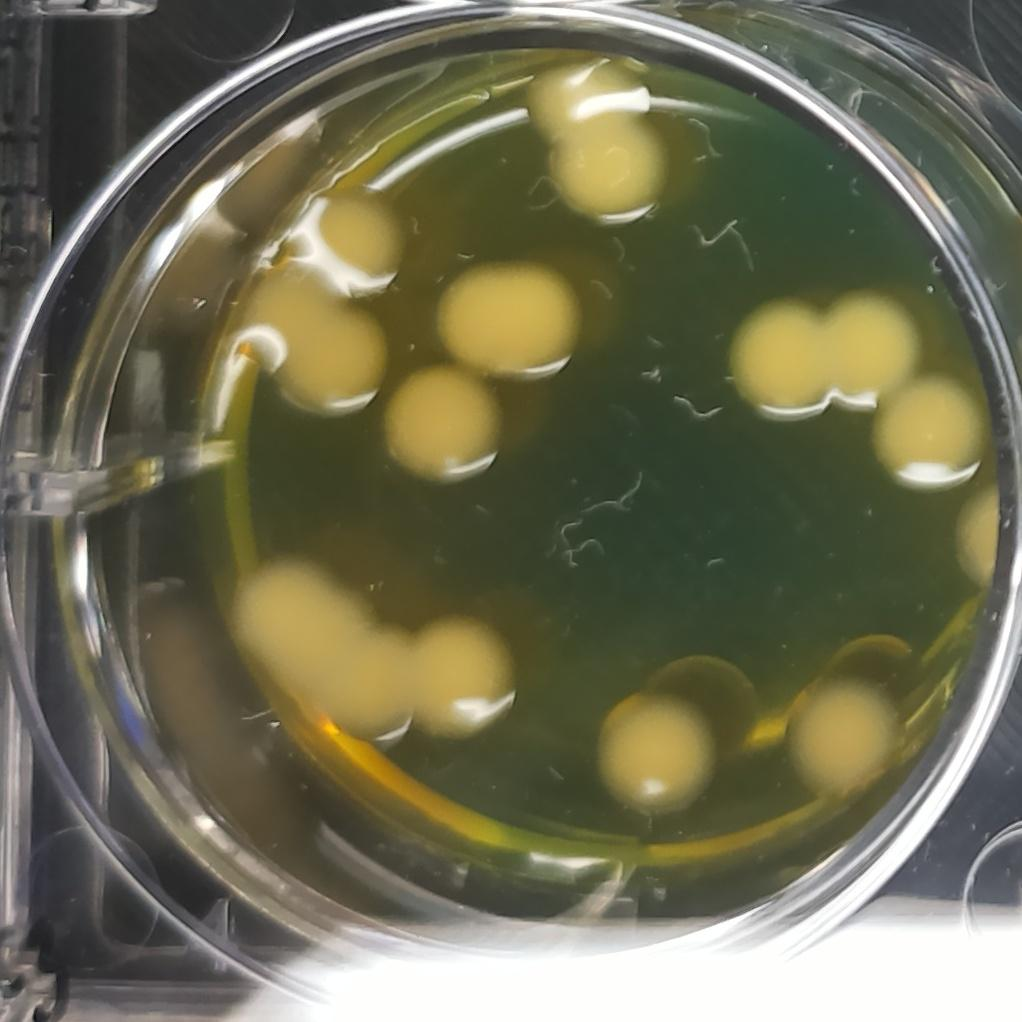valgino: (231, 555, 412, 745), (520, 45, 676, 237), (247, 266, 392, 426), (429, 250, 585, 386), (775, 669, 909, 800), (589, 685, 720, 813), (289, 177, 417, 306), (381, 359, 509, 486), (409, 608, 524, 740), (718, 294, 831, 426), (868, 376, 984, 497), (832, 288, 934, 418)
